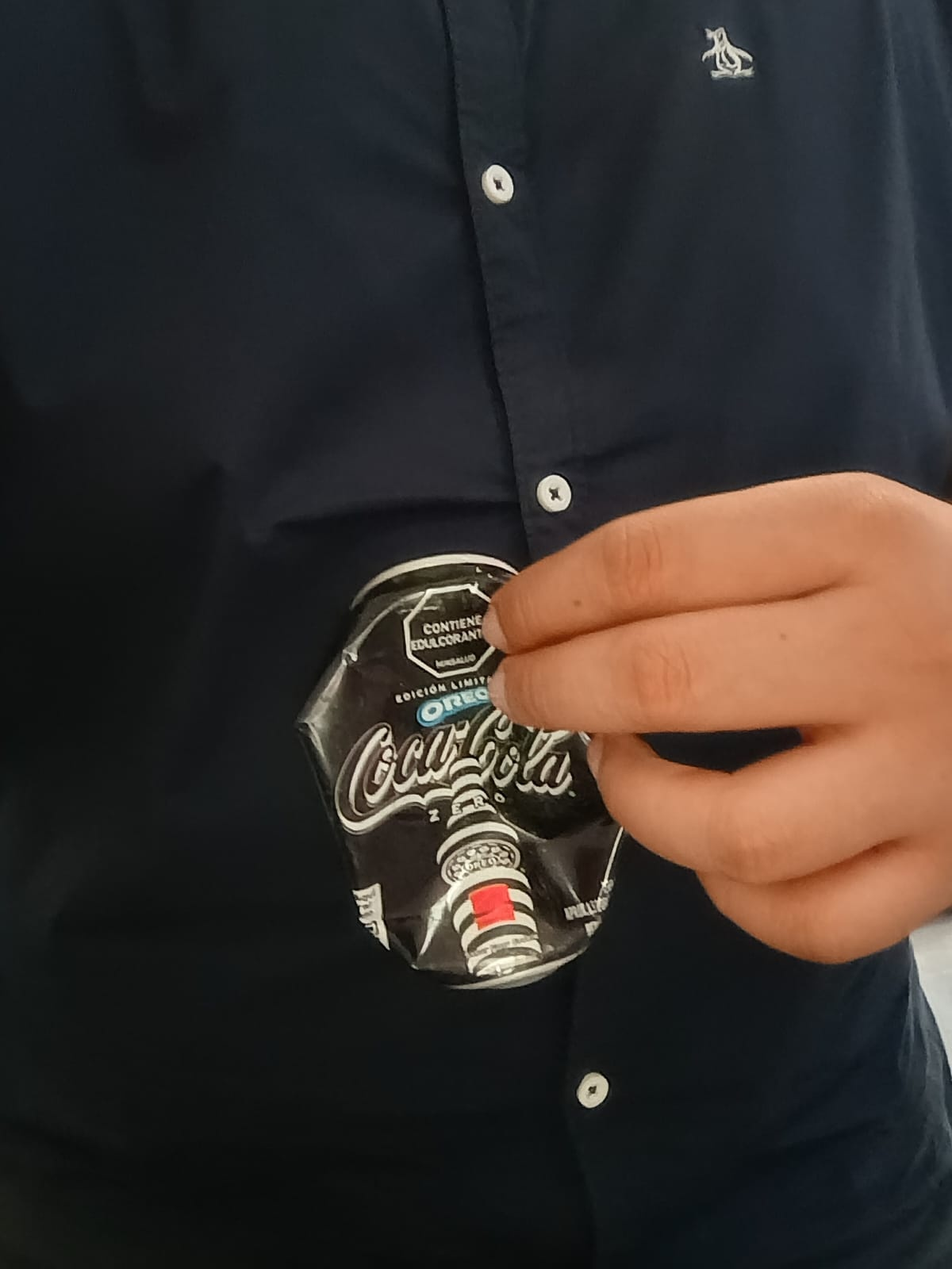Metal: (299, 556, 628, 988)
